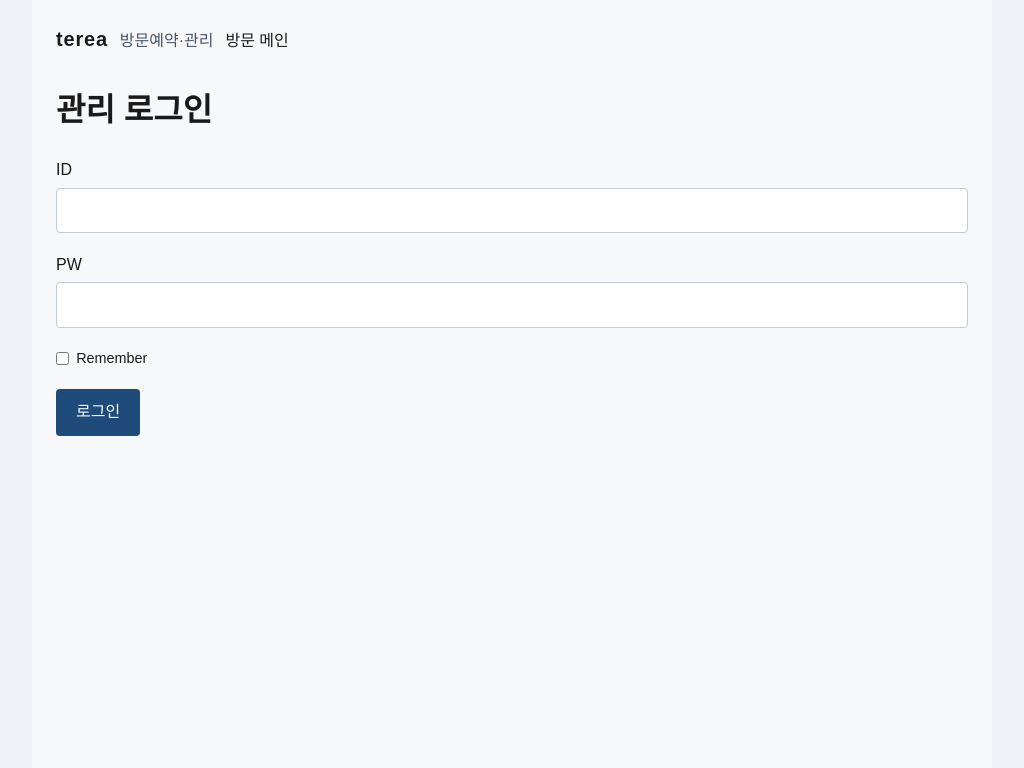
S19: 방문일 검색 › 방문일 기간 조건으로 검색할 수 있다
Type "admin" into the field labelled "ID" at (512, 210), box [56, 188, 968, 233]
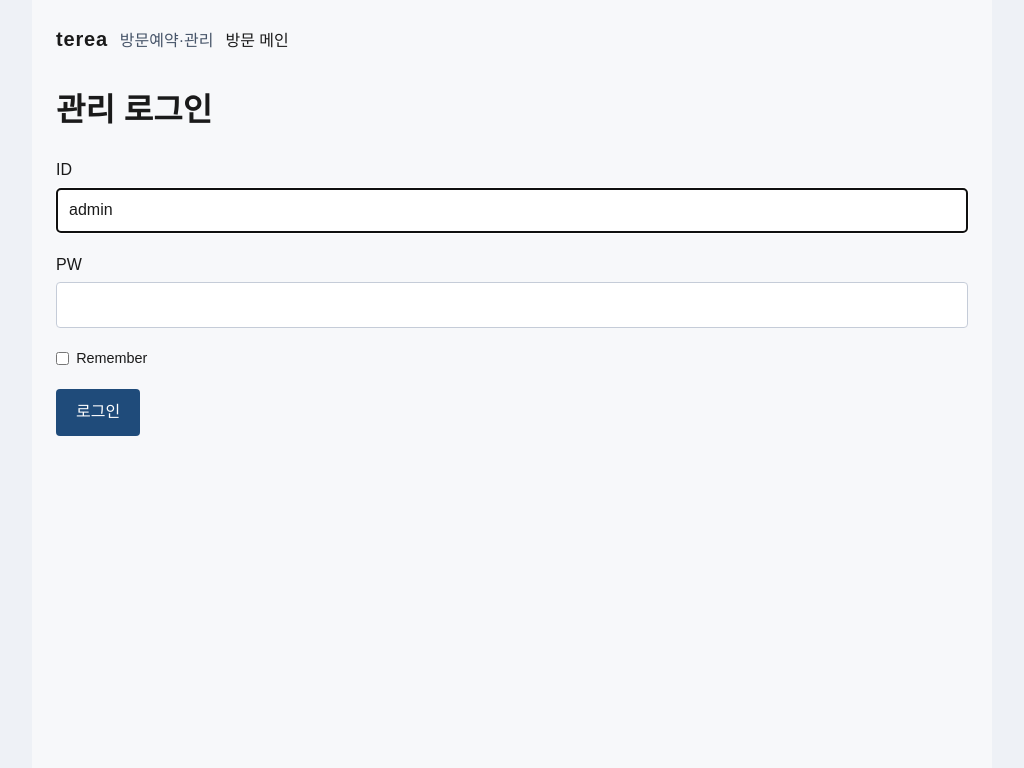
Type "1234" into the password field labelled "PW" at (512, 305), box [56, 282, 968, 328]
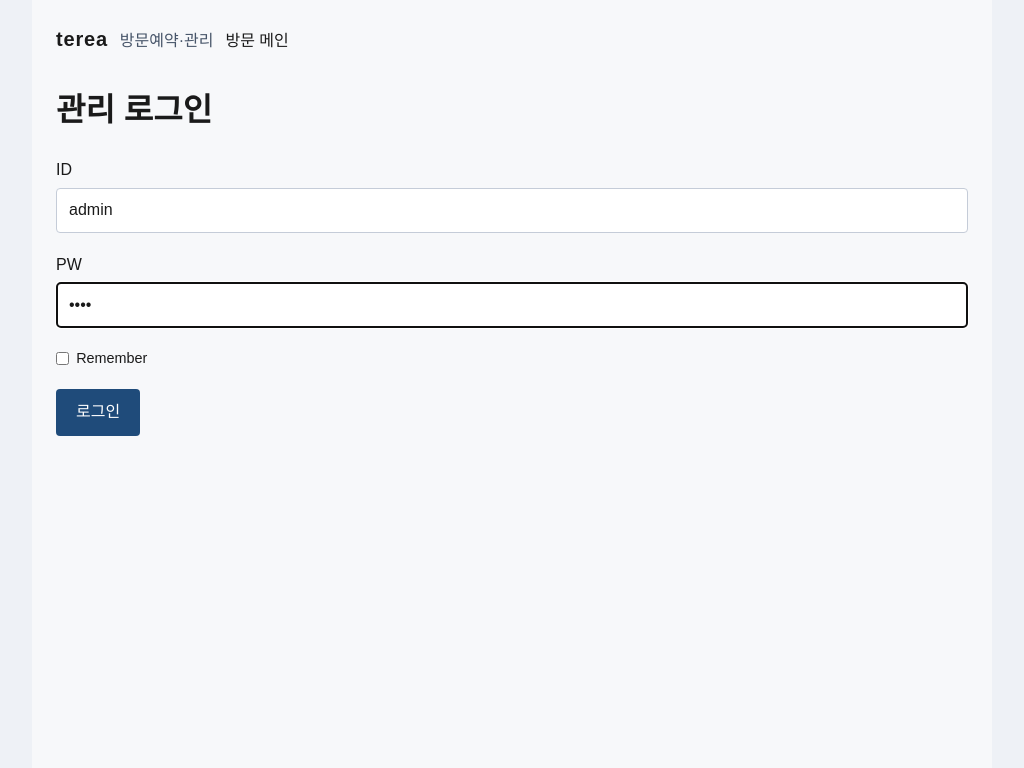
Click the button "로그인" at (98, 412), box [56, 389, 140, 436]
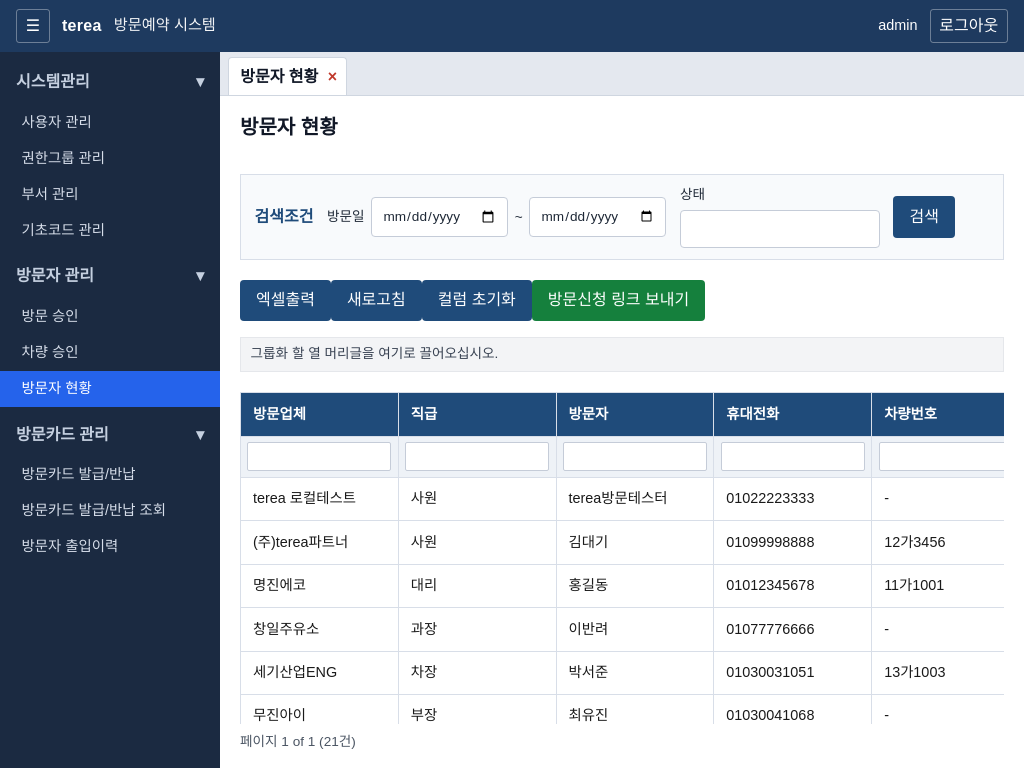
Expected: the text "홍길동" is shown, [556, 564, 714, 608]
Expected: the text "김대기" is shown, [556, 521, 714, 564]
Type "2026-10-11" into the date field named "방문일 시작" at (440, 217), box [371, 196, 508, 237]
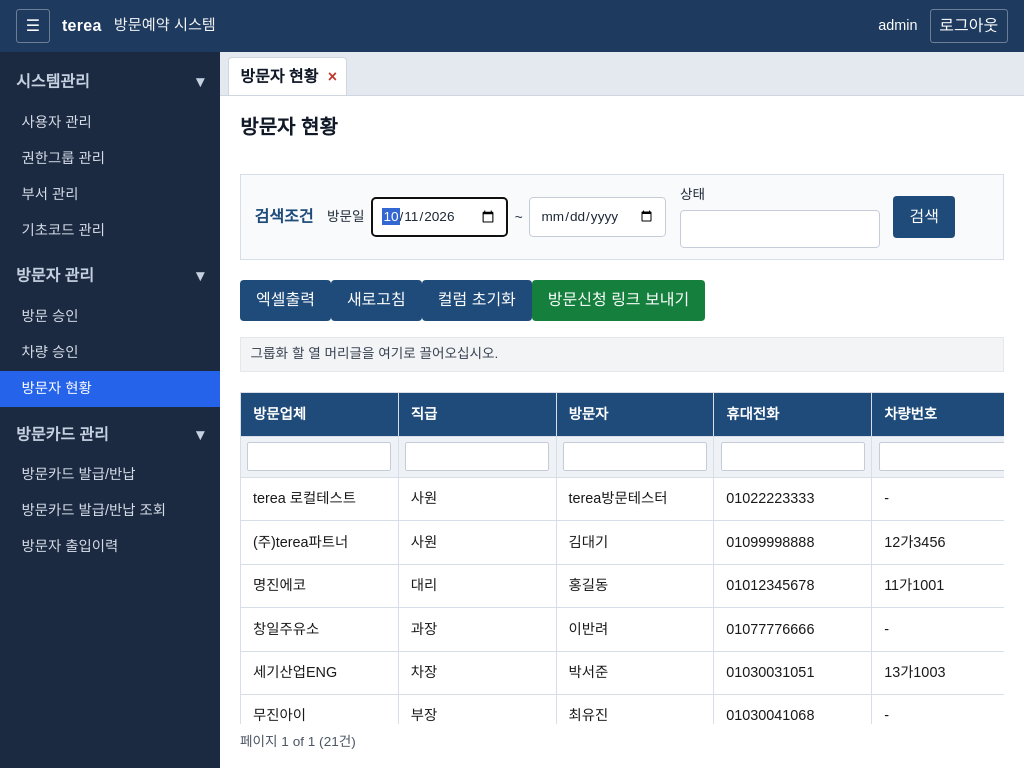
Type "2026-10-13" into the date field named "방문일 종료" at (598, 217), box [529, 196, 666, 237]
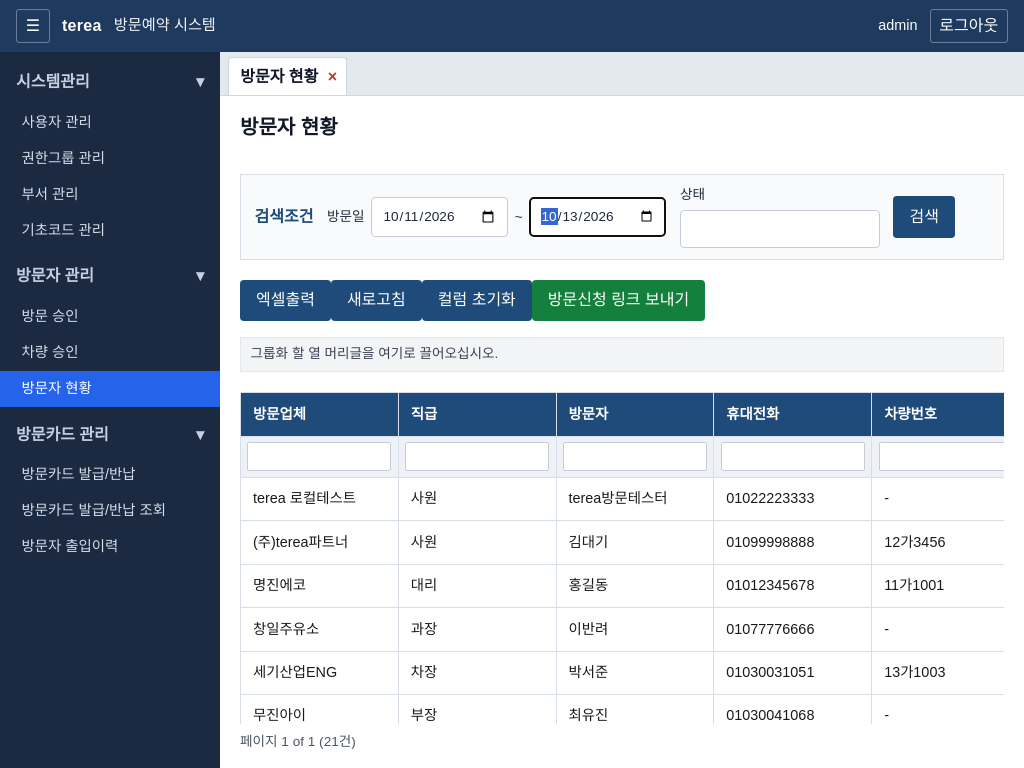
Click the button "검색" at (924, 217), box [894, 196, 955, 238]
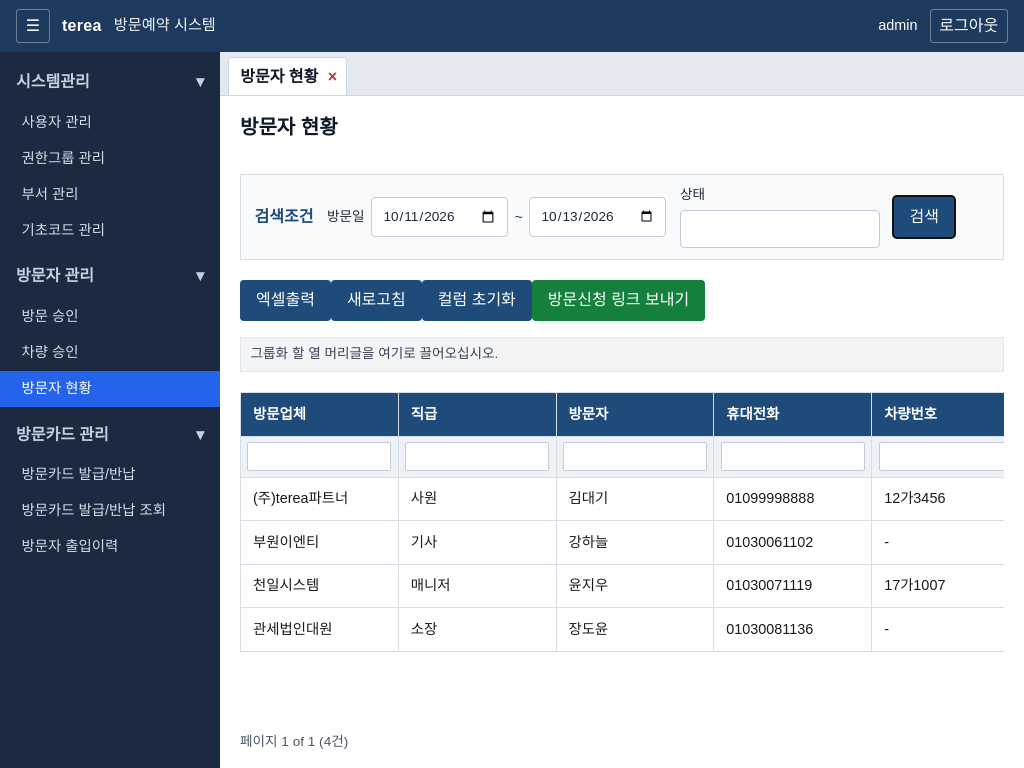
Expected: the text "김대기" is shown, [556, 478, 714, 521]
Expected: the text "홍길동" is gone
Expected: the text "이반려" is gone
